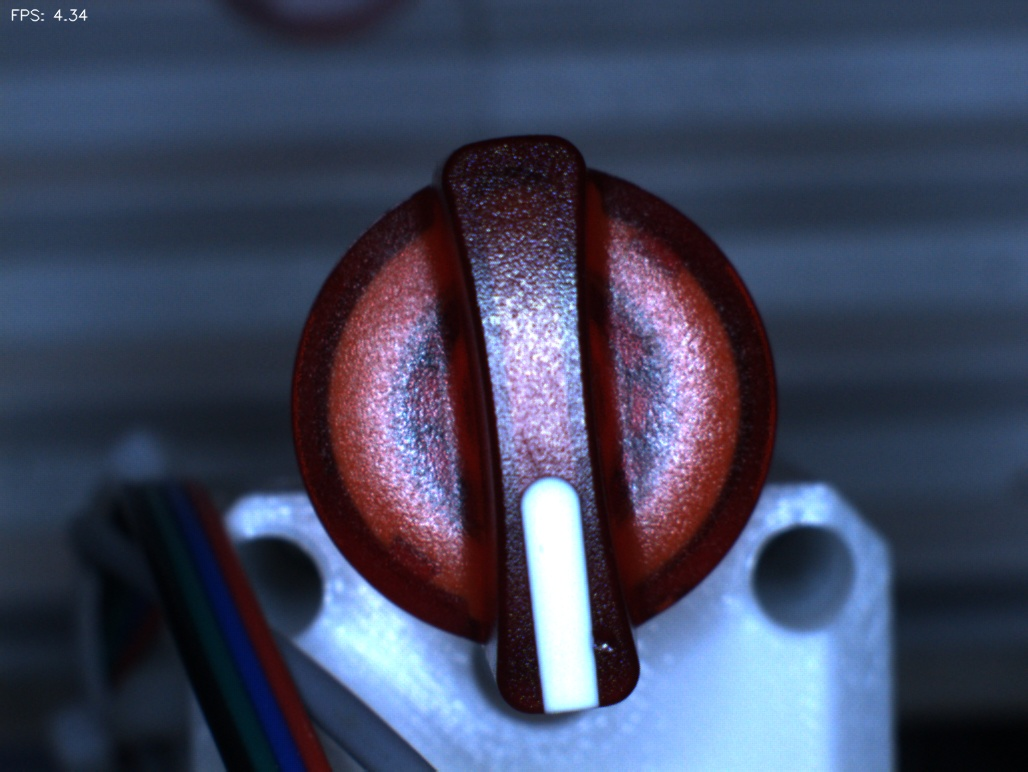Choc: (573, 601, 651, 679)
